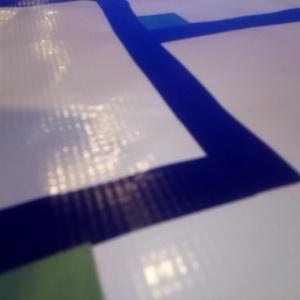bottom_right: (1, 209, 104, 300)
top_right: (119, 11, 191, 37)
